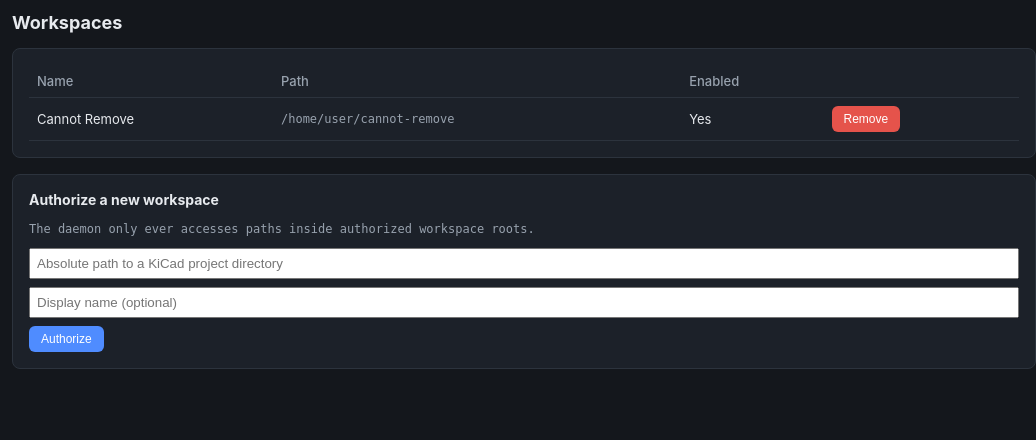
Test: WorkspacesScreen › shows action error when remove fails
The width and height of the screenshot is (1036, 440).
Expected: the text "Cannot Remove" is shown, [29, 97, 273, 140]
Click the button "Remove".
click(866, 119)  # box [832, 106, 900, 132]
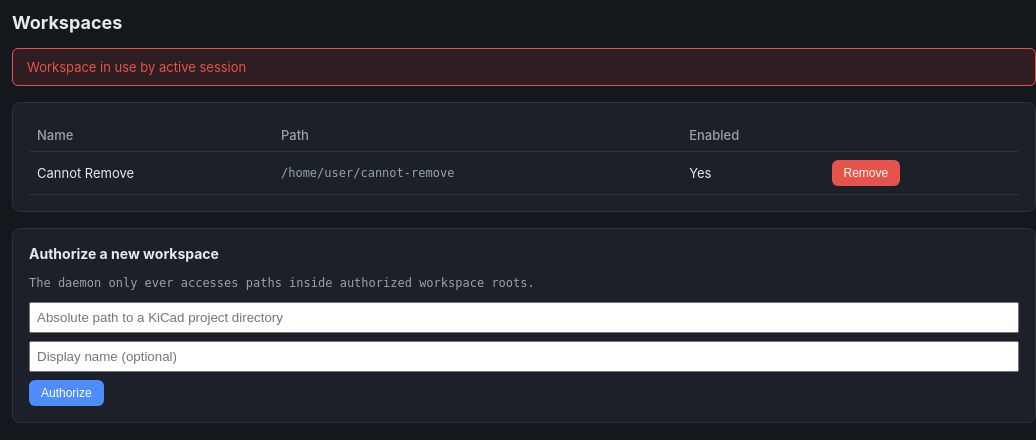
Result: the text "Workspace in use by active session" is shown at [12, 48, 1035, 86]
